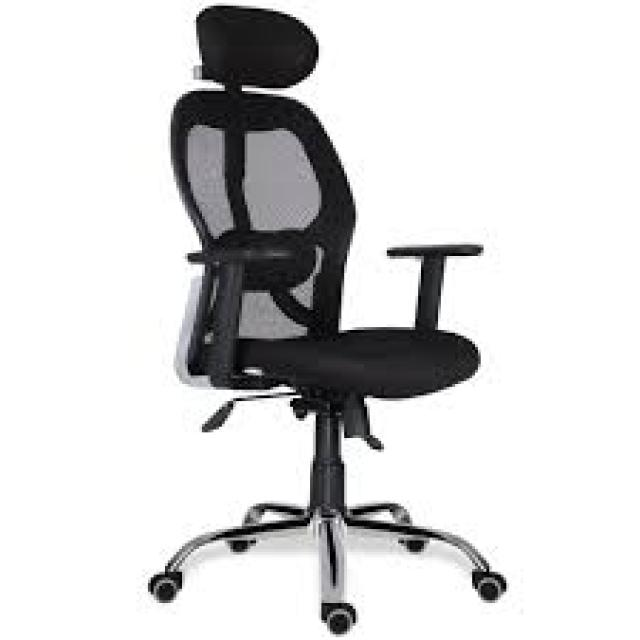chair: (92, 0, 557, 639)
